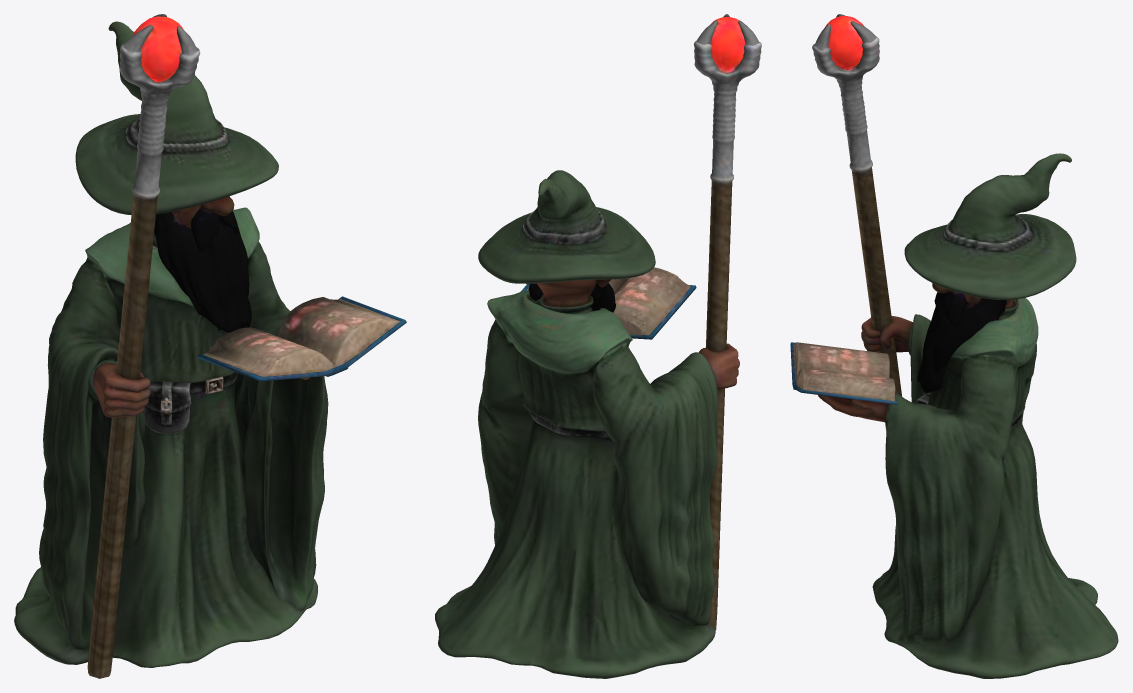
File: MZ4250 - Gnome Male Wizard 2_3.glb
The picture shows the model from 3 angles, left to right: view 1: azimuth 30°, elevation 25°; view 2: azimuth 150°, elevation 25°; view 3: azimuth 270°, elevation 25°; orthographic projection. The views are drawn at different scales.
Parts seen in each view (by area): view 1: Mindflayer Infiltrator.002; view 2: Mindflayer Infiltrator.002; view 3: Mindflayer Infiltrator.002.
Boxes of the visible parts, <box> form: Mindflayer Infiltrator.002: <box>14,14,406,678</box>; Mindflayer Infiltrator.002: <box>435,14,761,678</box>; Mindflayer Infiltrator.002: <box>790,14,1118,678</box>.
Size of the model in its own units: 29.22 by 68.16 by 35.34.
1 material, 1 textured.
